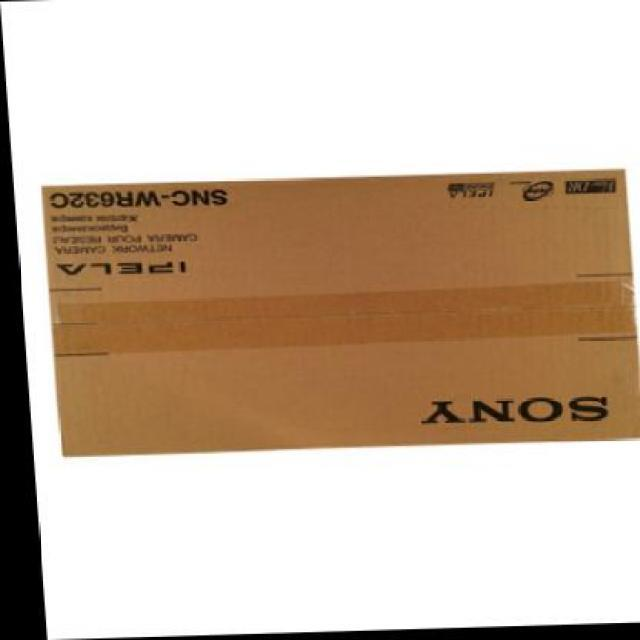box: (38, 172, 634, 455)
